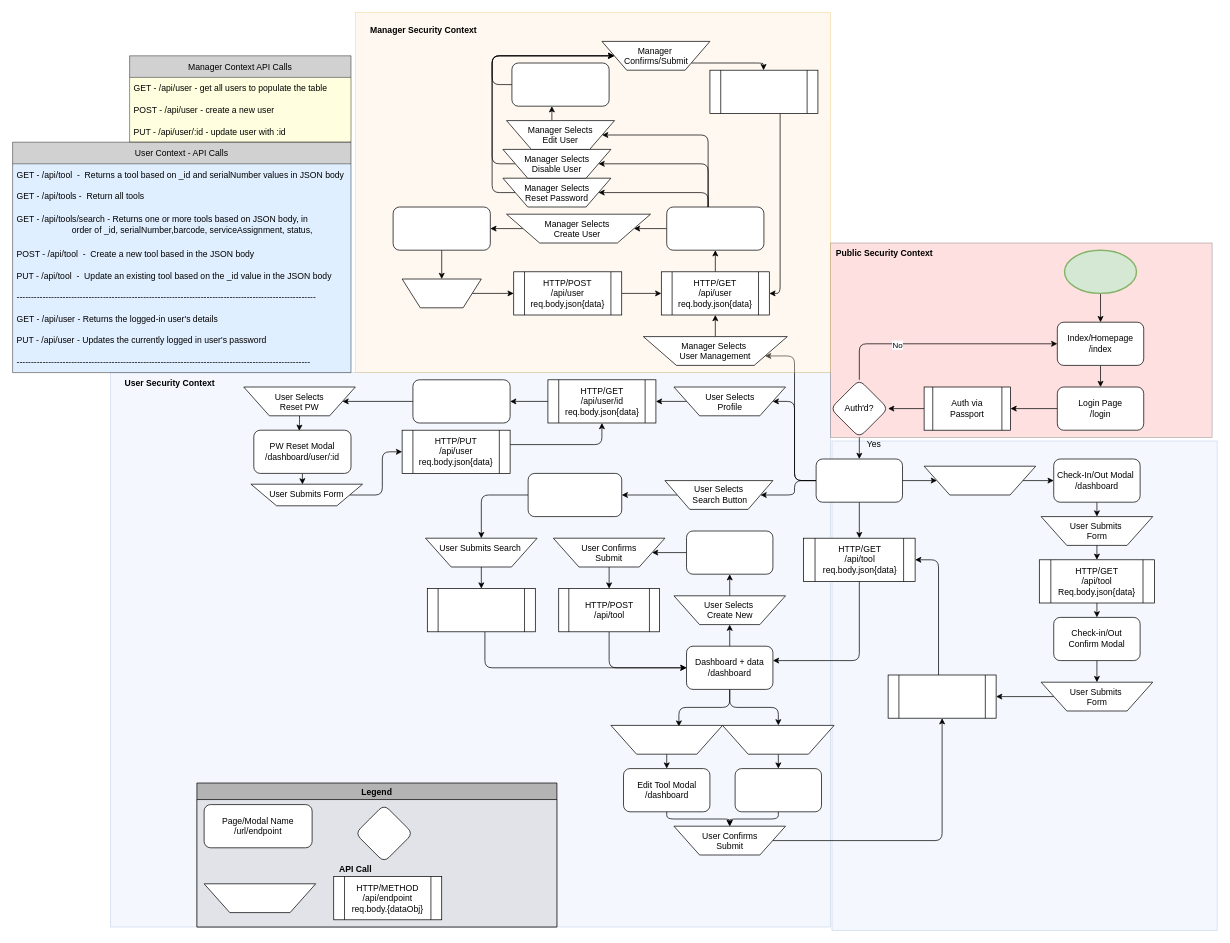
This 1230x943 diagram has some shape labels left out. The centre of each missing label's shape, as x and y in pixels:
Condition Eval: the point at 384,833
Confirm Delete /dashboard: the point at 778,790
Create Tool Modal /dashboard: the point at 729,552
Create User Modal /userManagement: the point at 441,228
Dashboard /dashboard: the point at 859,480
Edit User Modal /userManagement: the point at 560,84
HTTP/GET /api/tools/search req.body.json{data}: the point at 481,610
HTTP/PUT /api/tool Req.body.json{data}: the point at 941,696
HTTP/PUT /api/user/:id req.body.json{data}: the point at 763,91
Manager Submits: the point at 441,293
Search Modal /dashboard: the point at 574,495
START: the point at 1100,271
User Interaction or Decision: the point at 259,898
User Management /userManagement: the point at 715,228
User Profile /dashboard/user/:id: the point at 461,401
User Selects Check-in/out: the point at 979,480
User Selects Delete: the point at 778,739
User Selects Edit: the point at 666,739
